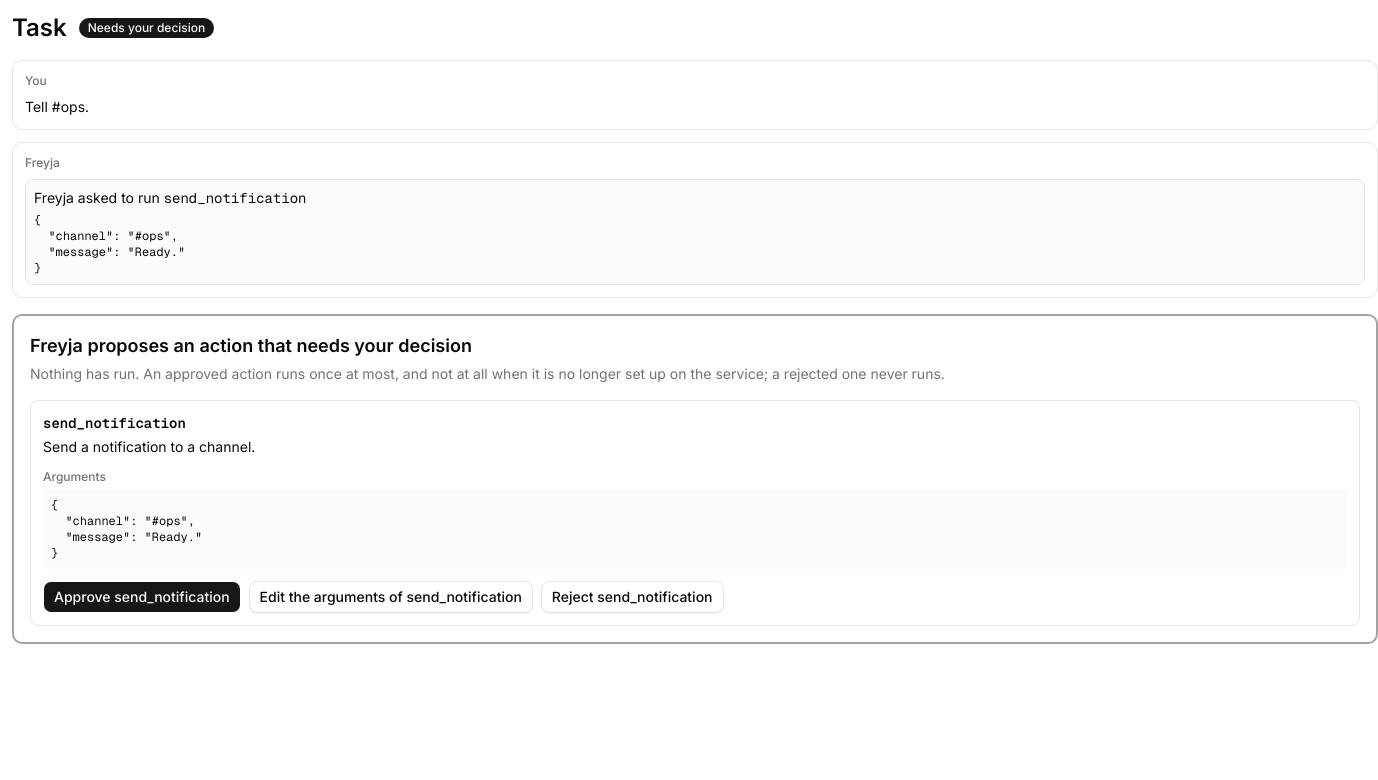
Test case: a task's page and a decision that gets no answer › says that the outcome is not known, reads the task again, and shows the proposal that is still pending
Click the button "Approve send_notification".
click(142, 597)  # box [43,581,241,613]
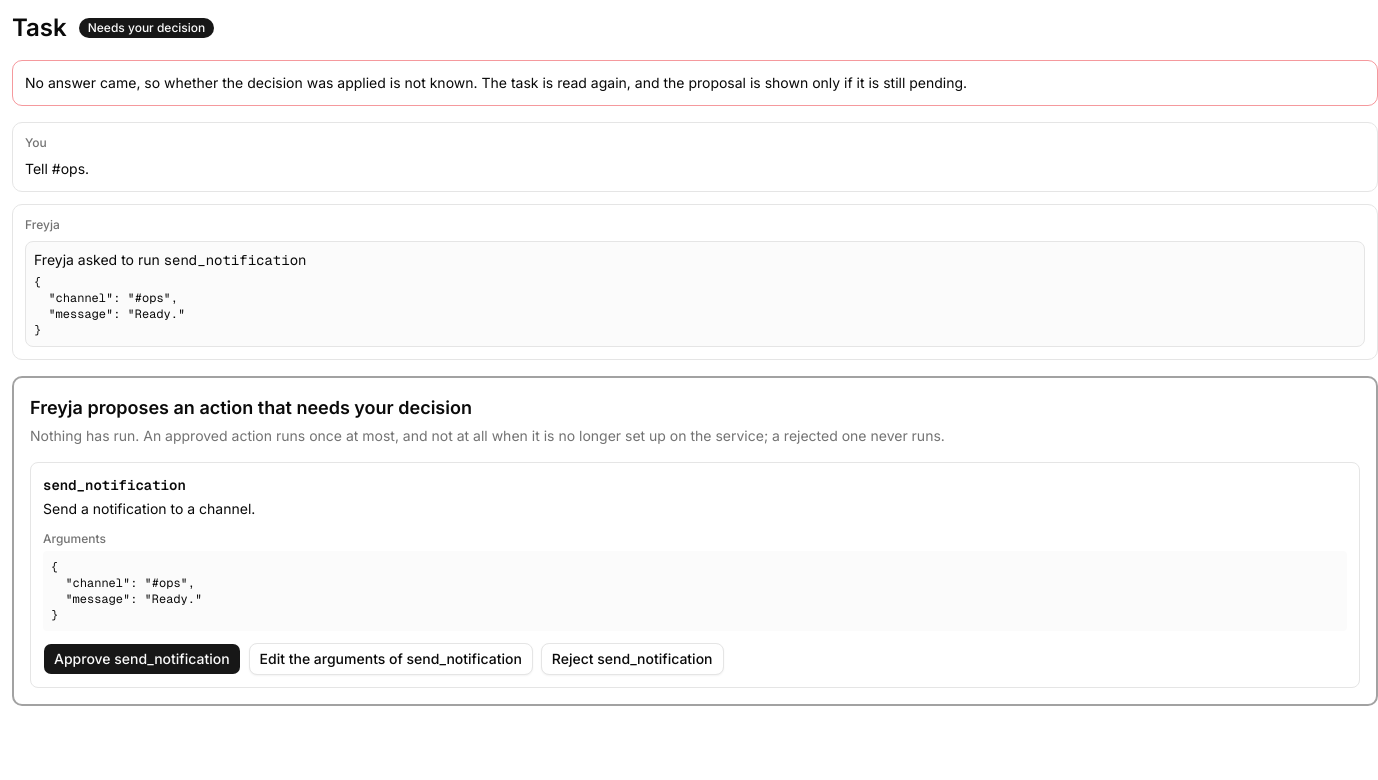
Expected: the button "Approve send_notification" is shown, [43,643,241,675]
Result: the message shows "No answer came, so whether the decision was applied is not known. The task is read again, and the proposal is shown only if it is still pending." at [25,74,967,91]
